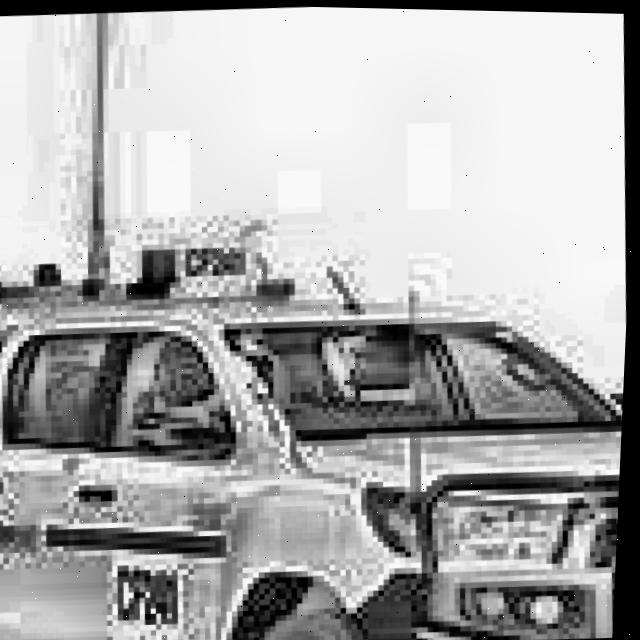light_vehicle: (0, 162, 634, 640)
